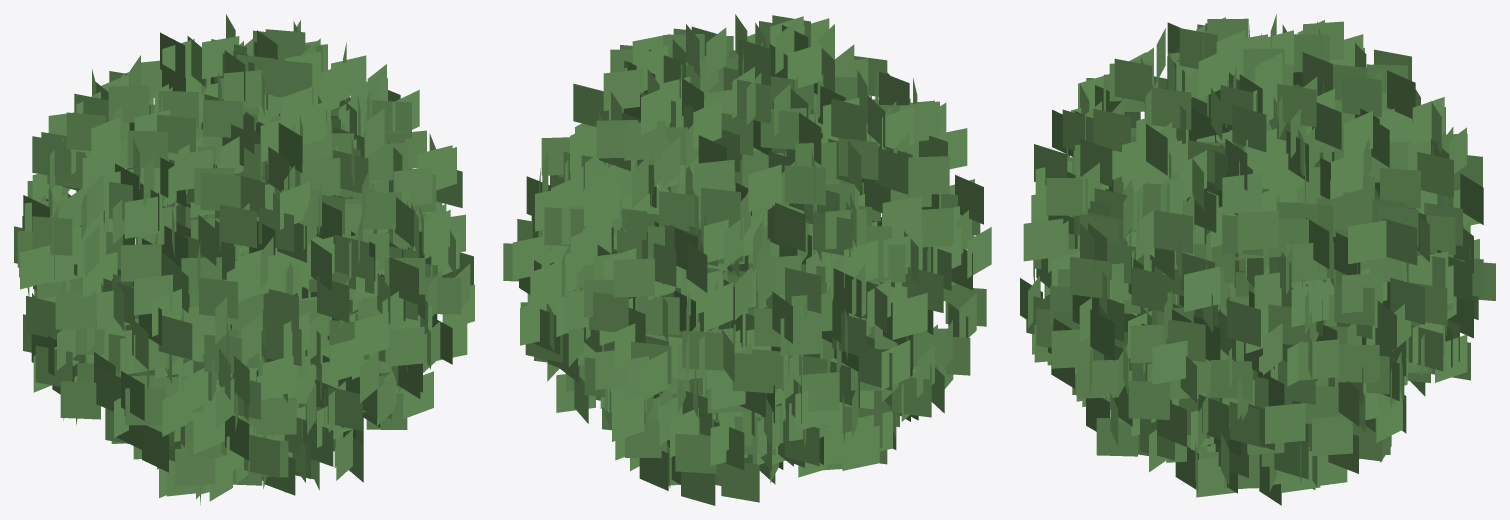
The model's file is cards.glb.
The picture shows the model from 3 angles, left to right: view 1: azimuth 30°, elevation 25°; view 2: azimuth 150°, elevation 25°; view 3: azimuth 270°, elevation 25°; orthographic projection. The views are drawn at different scales.
Bounding box in the file's own units: 2.1 × 2.14 × 2.06.
